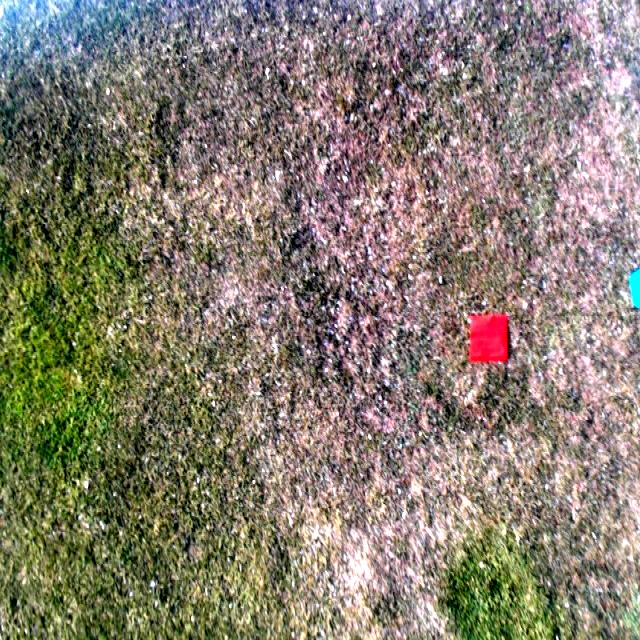red_square: (470, 316, 508, 361)
